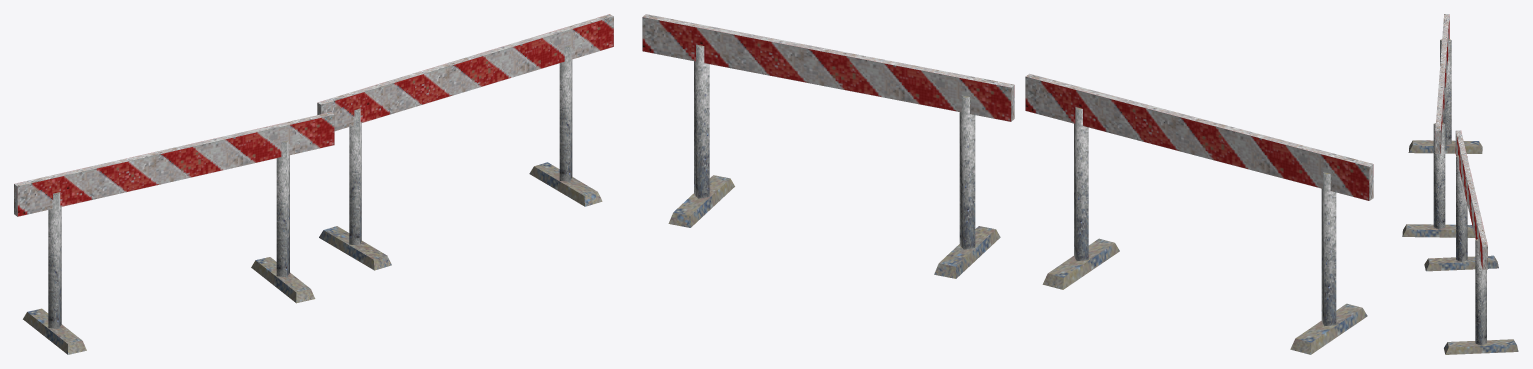
Rendered from Signs.fbx.
The picture shows the model from 3 angles, left to right: view 1: azimuth 30°, elevation 25°; view 2: azimuth 150°, elevation 25°; view 3: azimuth 270°, elevation 25°; orthographic projection. The views are drawn at different scales.
Visible parts, largest first — view 1: object_12, object_28; view 2: object_28, object_12; view 3: object_28, object_12.
Boxes of the visible parts, bbox=[...] form: object_12: bbox=[14, 112, 334, 354]; object_28: bbox=[317, 14, 613, 270]; object_28: bbox=[642, 14, 1014, 278]; object_12: bbox=[1025, 73, 1373, 354]; object_28: bbox=[1424, 130, 1518, 354]; object_12: bbox=[1402, 14, 1482, 237].
Bounding box in the file's own units: 389 × 94.9 × 82.12.
